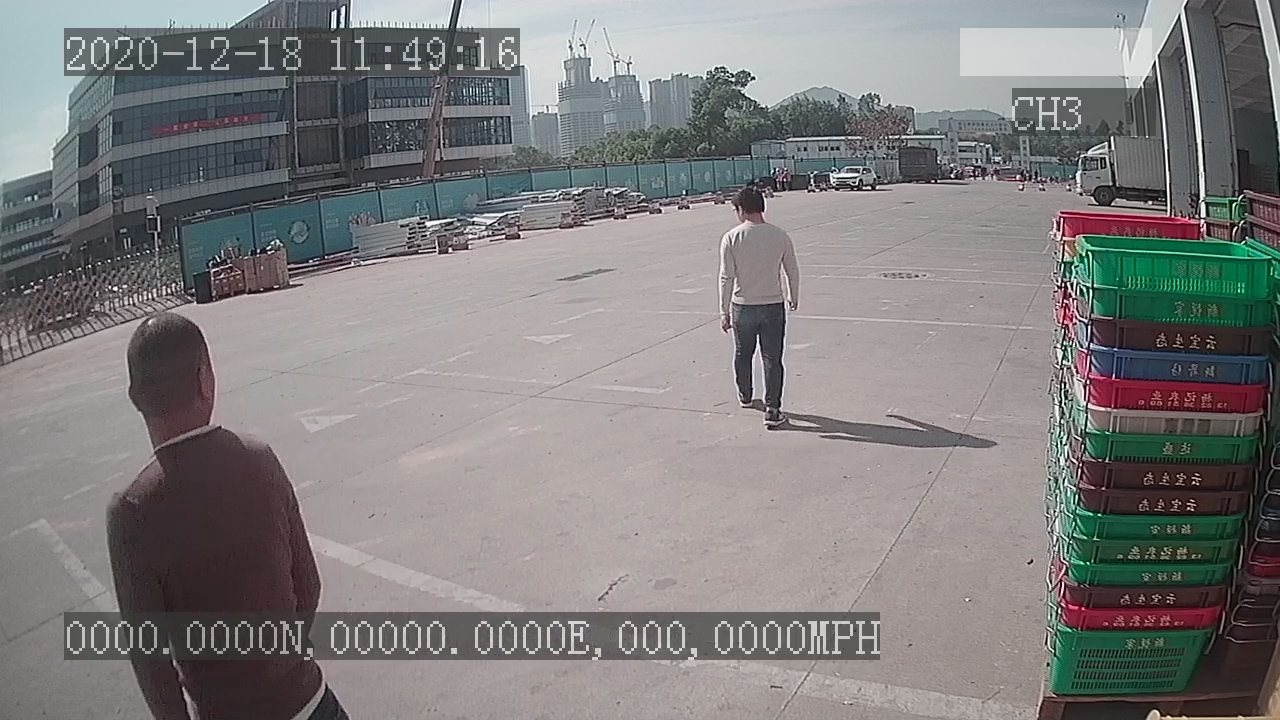person: (715, 185, 802, 429)
